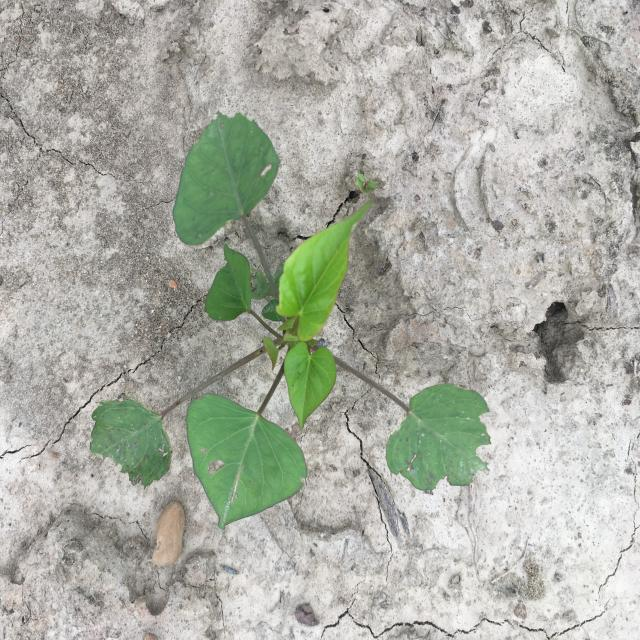MorningGlory: (90, 112, 492, 530)
